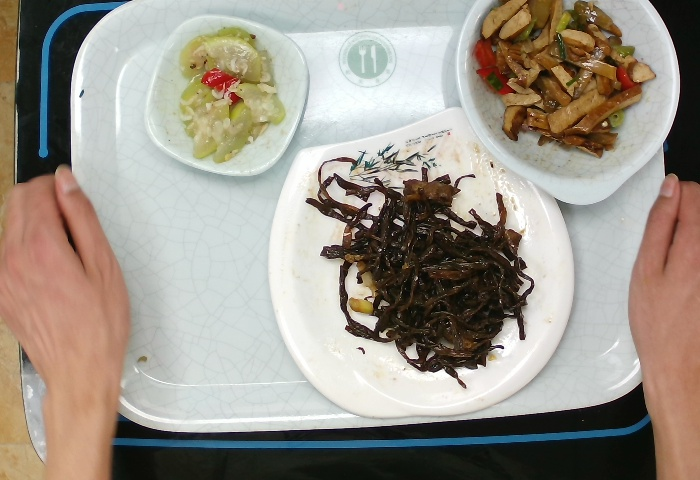JYsf-Mian_Pan: (260, 94, 581, 427)
JYsf-Shuang_Er_Wan: (449, 1, 688, 213)
JYsf-Si_Fang_Die: (134, 15, 318, 183)
